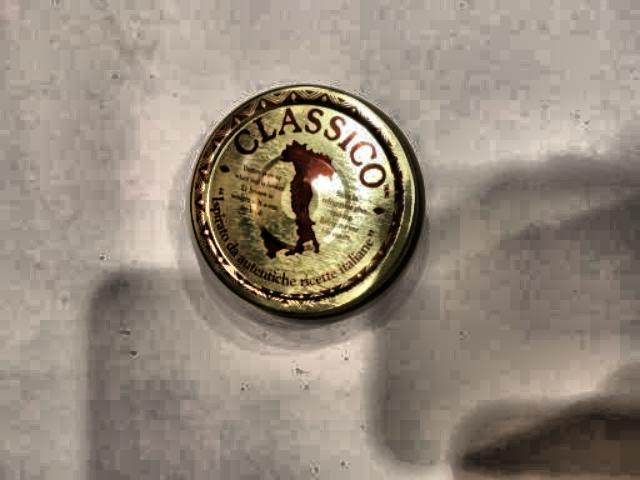Almennt: (162, 68, 462, 346)
